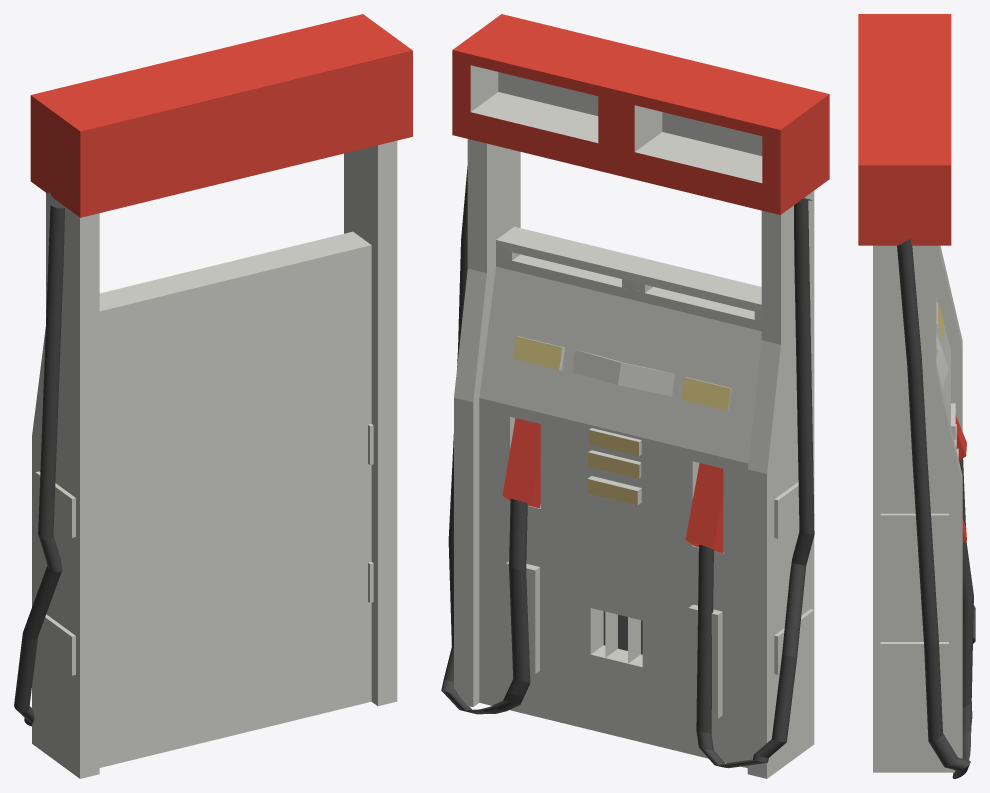
Rendered from gasstation.fbx.
3 renders of one model, left to right at view 1: azimuth 30°, elevation 25°; view 2: azimuth 150°, elevation 25°; view 3: azimuth 270°, elevation 25°, orthographic. The views are drawn at different scales.
Parts seen in each view (by area): view 1: Cube, Cylinder; view 2: Cube, Cylinder; view 3: Cube, Cylinder.
Part boxes in pixels (bbox=[...]): Cube: bbox=[30, 14, 412, 778]; Cylinder: bbox=[14, 192, 65, 726]; Cube: bbox=[452, 14, 829, 778]; Cylinder: bbox=[441, 166, 814, 768]; Cube: bbox=[858, 14, 966, 772]; Cylinder: bbox=[897, 239, 975, 778].
Bounding box in the file's own units: 642 × 1141 × 196.
